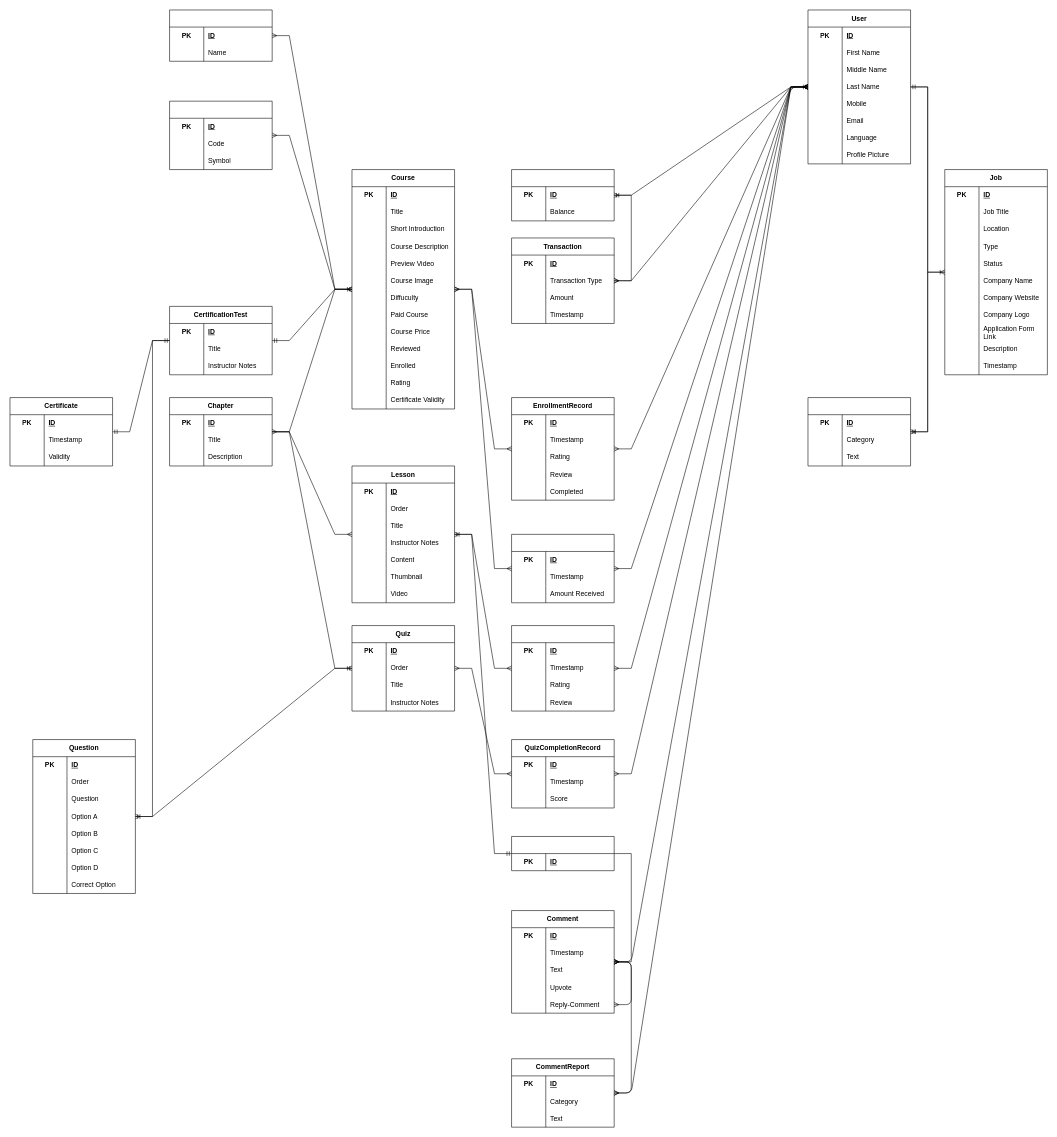
Image size: 1057x1137. Some labels were removed from this diagram. Each missing label, with the box of its shape:
Account: (511, 169, 614, 221)
Comment Section: (511, 836, 614, 871)
CreationRecord: (511, 534, 614, 603)
Currency: (169, 101, 272, 170)
JobReport: (807, 397, 911, 466)
LessonCompletionRecord: (511, 625, 614, 711)
Tag: (169, 9, 272, 61)
